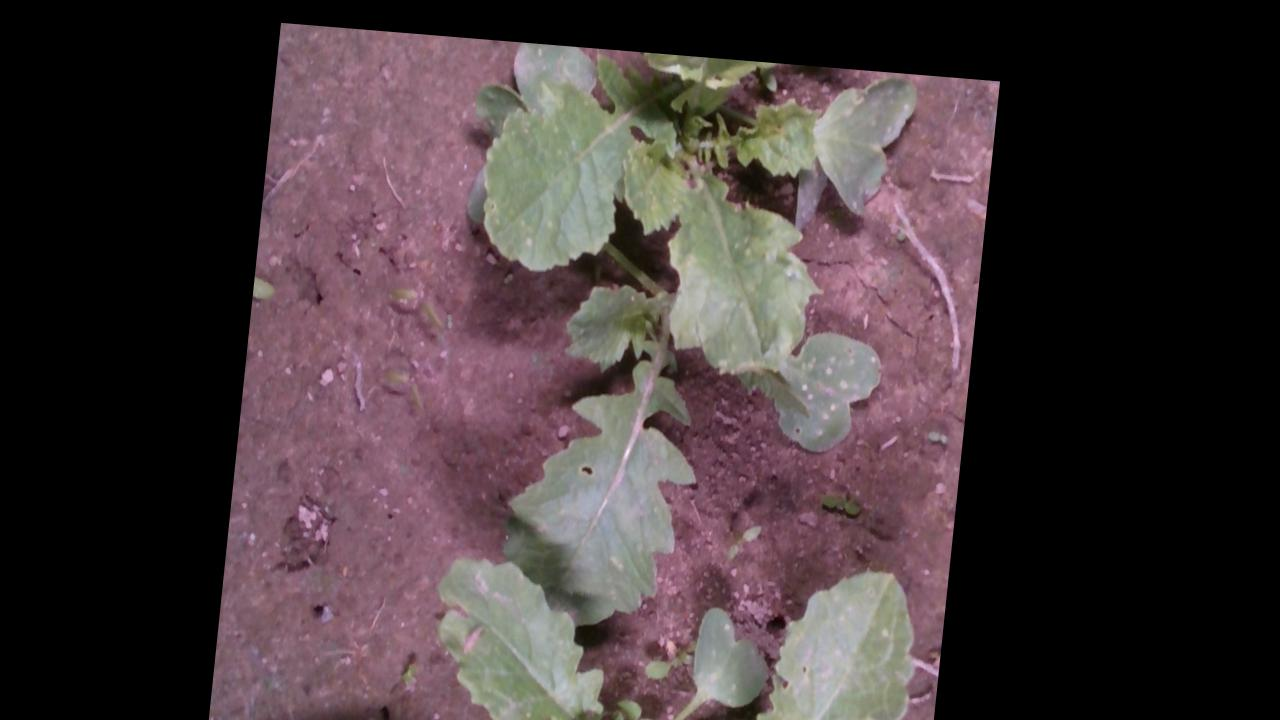weed: (385, 276, 455, 320), (380, 361, 438, 405), (828, 477, 877, 502), (933, 409, 960, 427)
